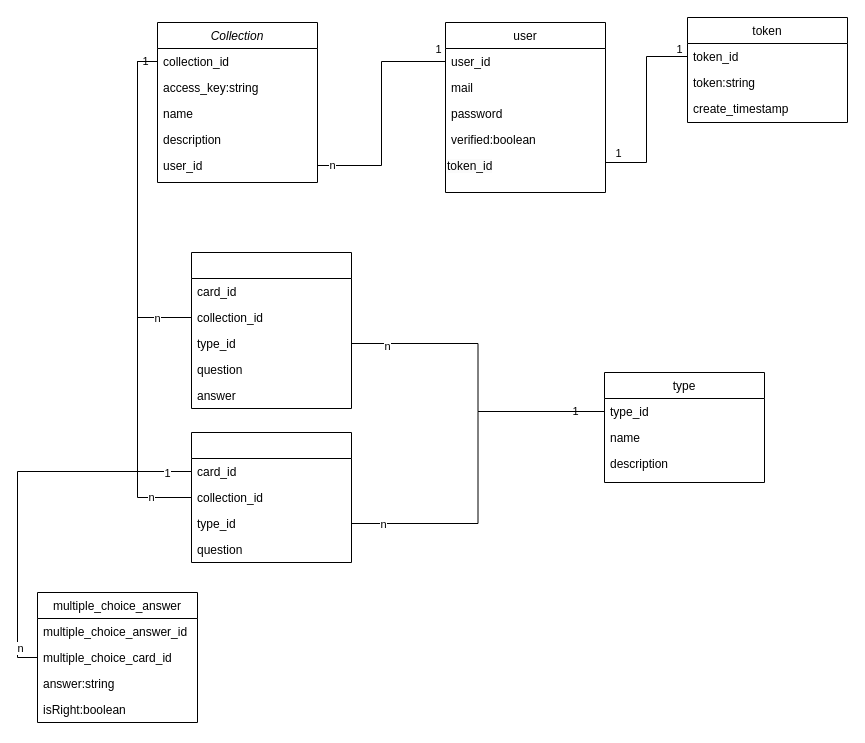
Some shapes in this 865 by 743 pixel diagram are drawn without their labels. The box of each missing label's shape, as (x1, y1, x2, y2) in pixels:
multiple_choice_question: (190, 432, 352, 562)
standard_card: (190, 252, 352, 408)
